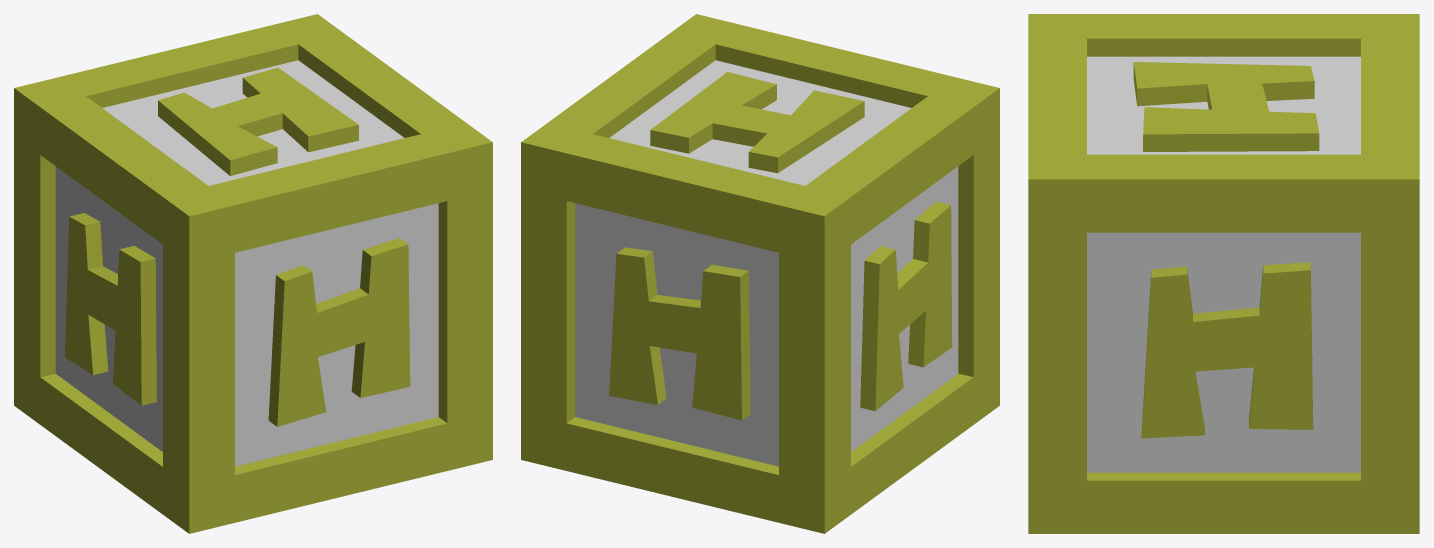
File: Block_H.fbx
3 renders of one model, left to right at view 1: azimuth 30°, elevation 25°; view 2: azimuth 150°, elevation 25°; view 3: azimuth 270°, elevation 25°, orthographic. The views are drawn at different scales.
Parts seen in each view (by area): view 1: Block_H; view 2: Block_H; view 3: Block_H.
Boxes of the visible parts, x1,y1,x2,y2 form: Block_H: [14, 14, 492, 533]; Block_H: [521, 14, 999, 533]; Block_H: [1028, 14, 1419, 533].
Bounding box in the file's own units: 10 × 10 × 10.
